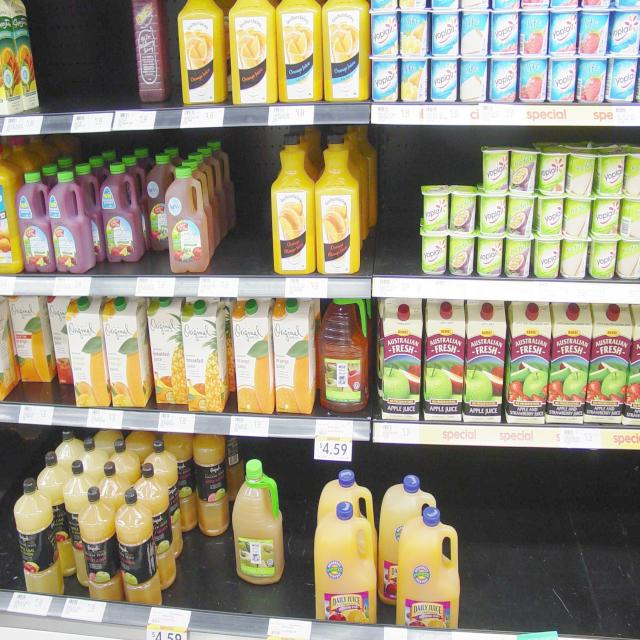empty_space: (463, 467, 633, 627), (39, 8, 125, 100), (374, 136, 418, 267), (226, 143, 266, 273)
